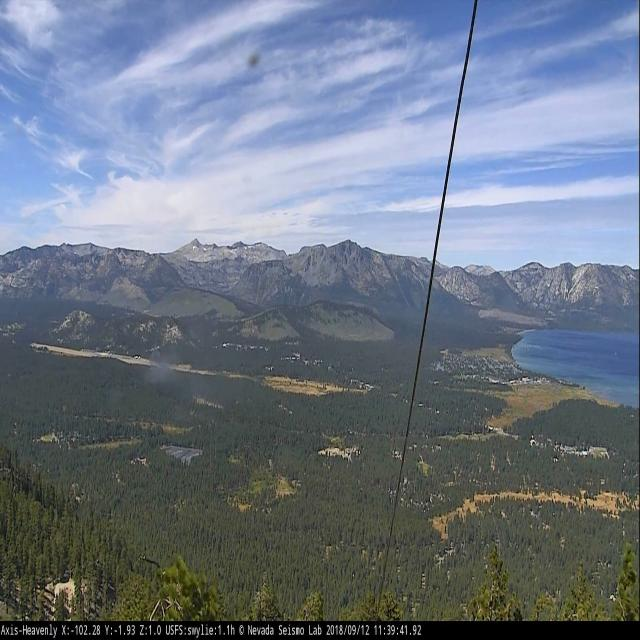smoke: (144, 351, 176, 384)
